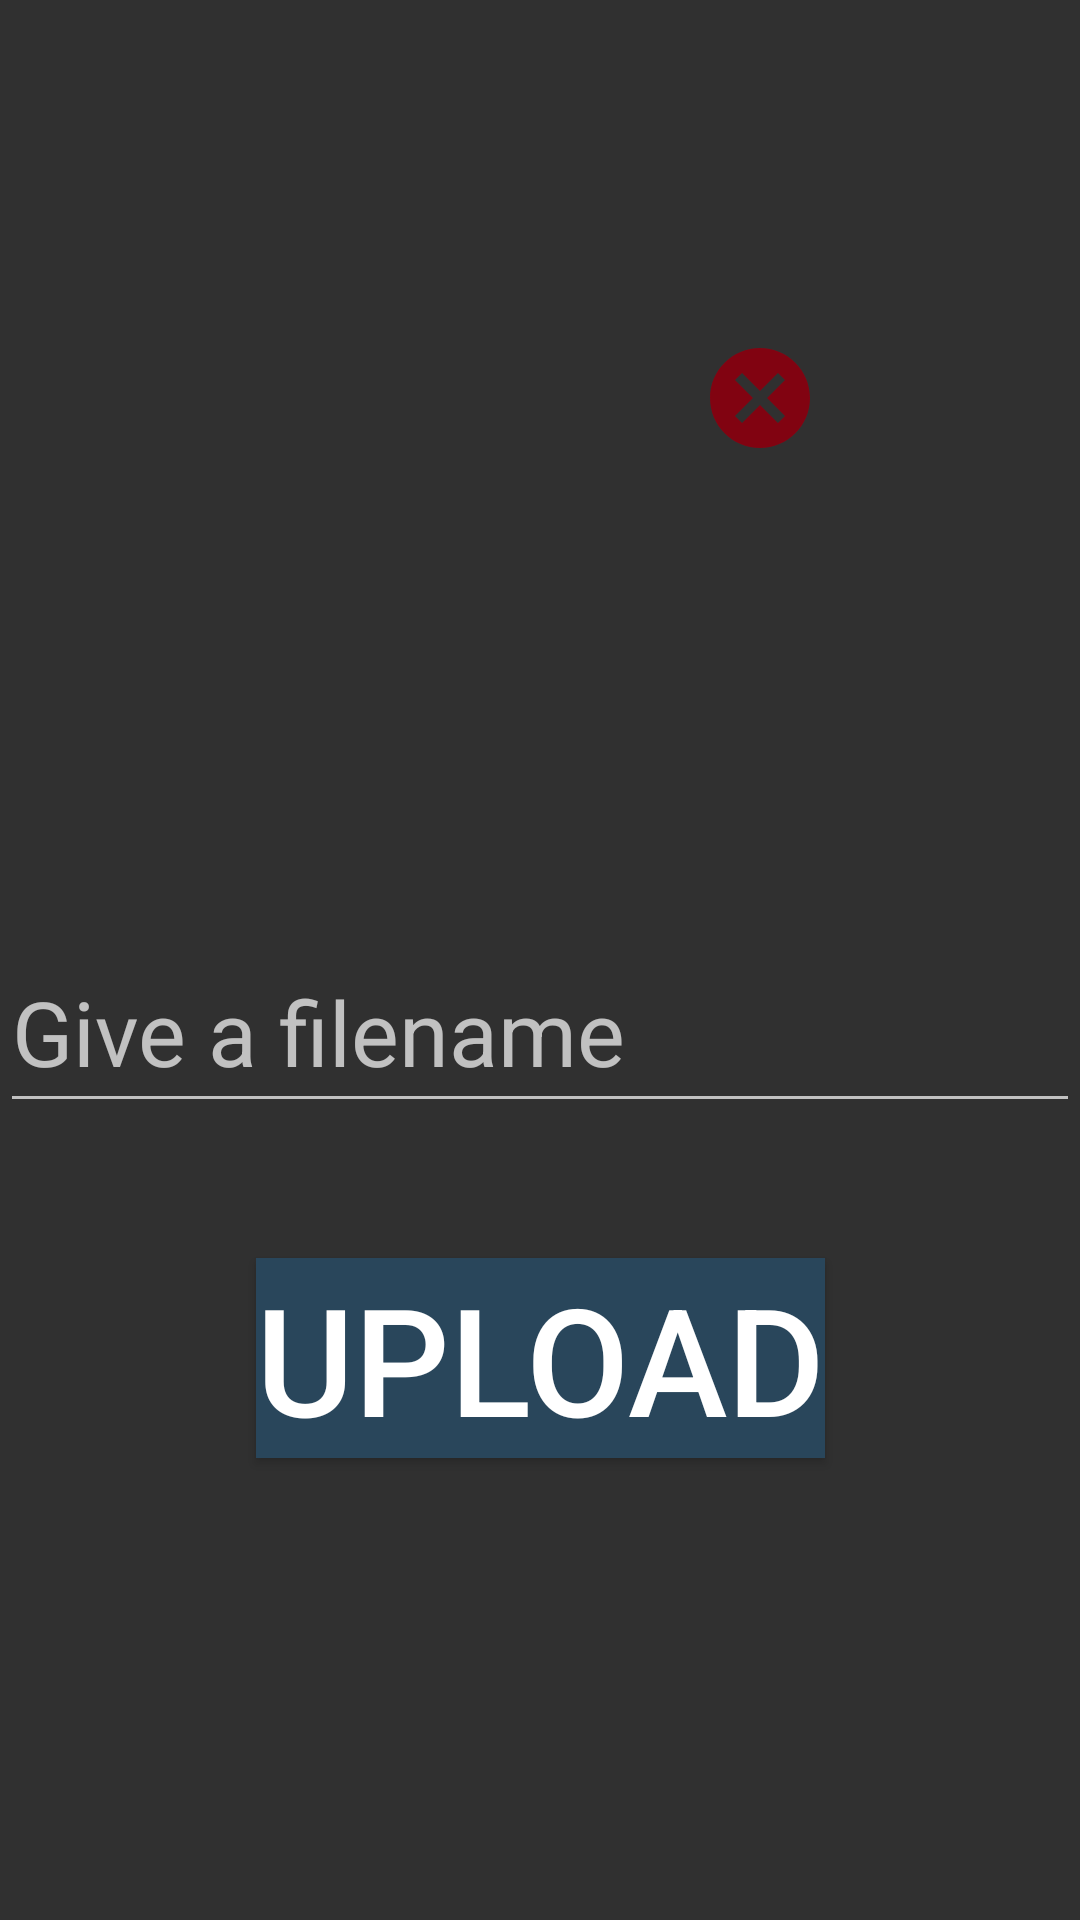

Icon bounding boxes for this 1080×1920 phone screenshot, format (x1, y1, x2, y2):
cancel: (710, 348, 810, 448)
